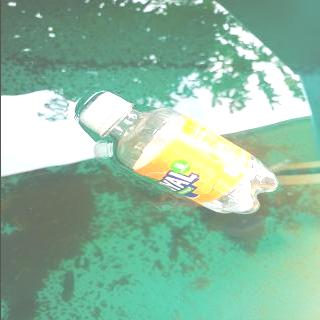bottle: (74, 88, 280, 218)
